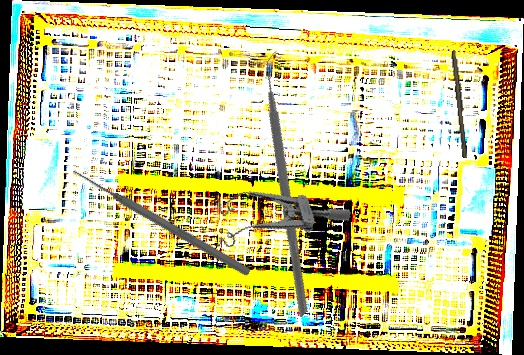Chopper: (159, 44, 425, 318)
Pusher: (69, 164, 253, 279)
Scalpel Handle: (449, 49, 471, 159)
Speculum: (202, 161, 354, 261)
